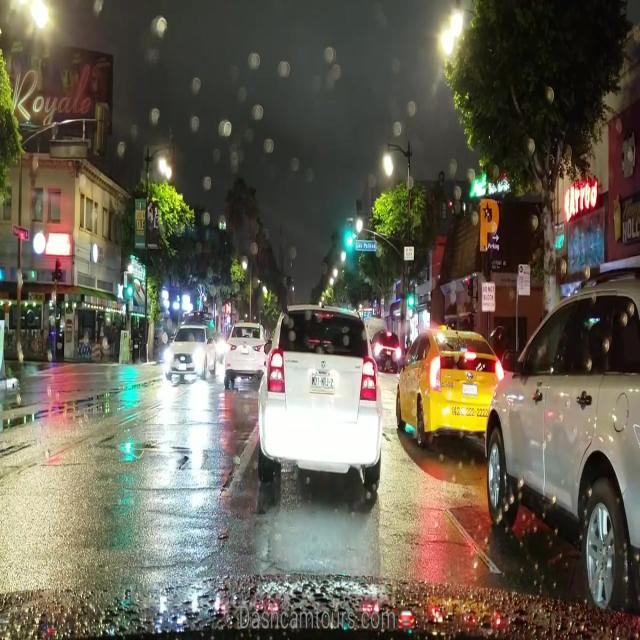Car: (481, 286, 639, 605), (257, 304, 379, 491), (395, 329, 486, 449), (162, 324, 215, 381), (219, 319, 265, 372)
